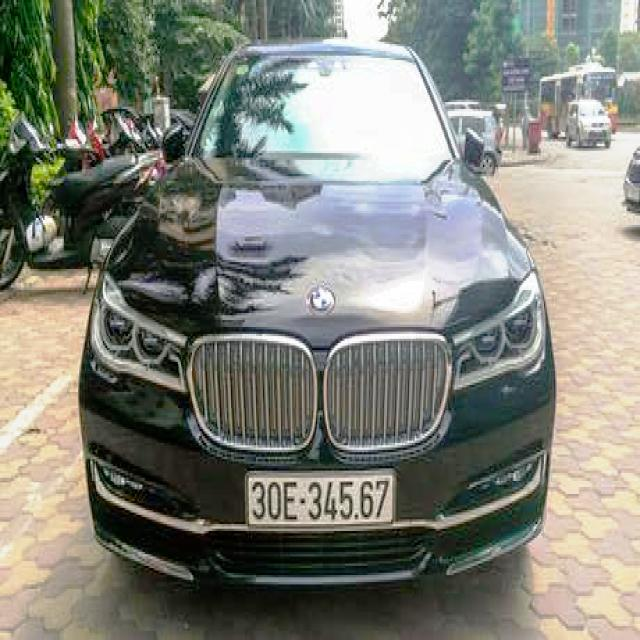license_plate: (245, 470, 396, 527)
